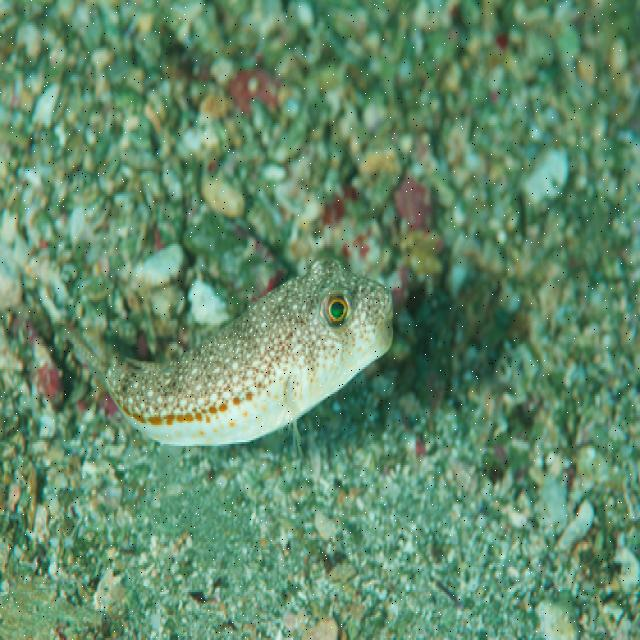Balik: (64, 260, 392, 445)
